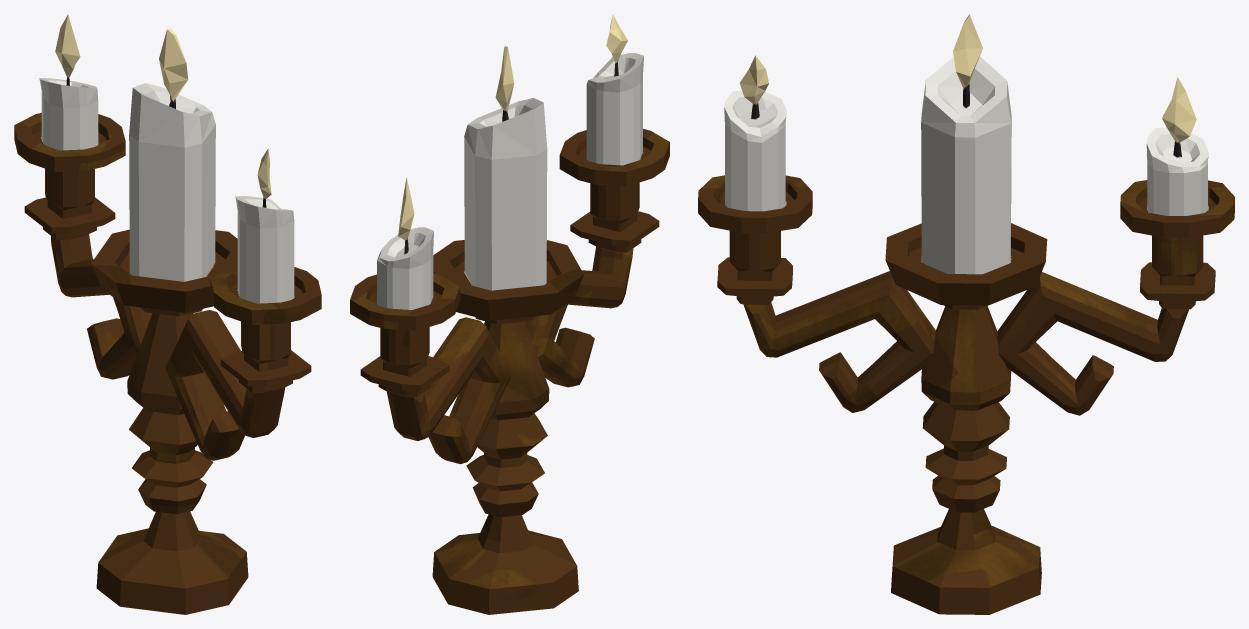
The model's file is candle.fbx.
3 views of the same model, side by side, from view 1: azimuth 30°, elevation 25°; view 2: azimuth 150°, elevation 25°; view 3: azimuth 270°, elevation 25° (orthographic). The views are drawn at different scales.
Parts seen in each view (by area): view 1: Candle.001; view 2: Candle.001; view 3: Candle.001.
Part boxes in pixels (x1,y1,x2,y2): Candle.001: (14,14,321,614); Candle.001: (350,14,669,614); Candle.001: (698,14,1234,614).
Bounding box in the file's own units: 40.13 × 155 × 133.
